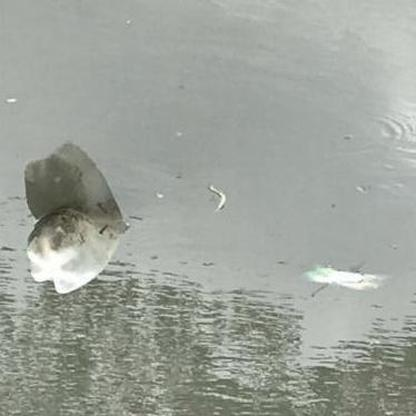plastic bag: (307, 260, 379, 294)
plastic bottle: (27, 210, 117, 294)
